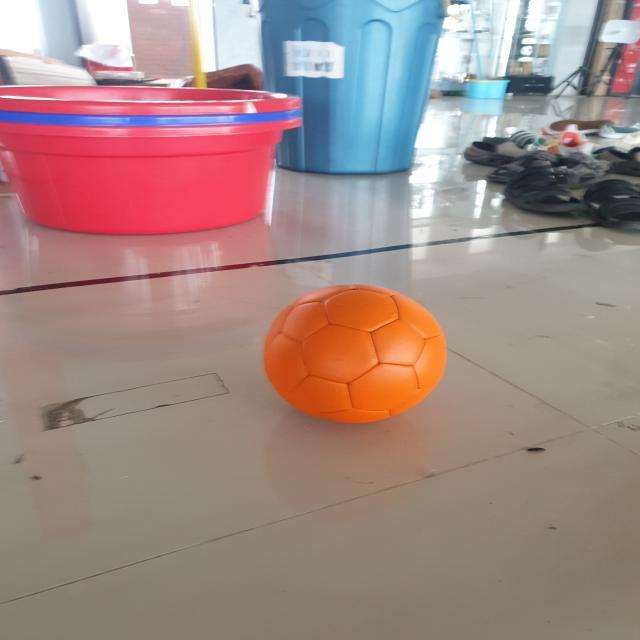bola: (259, 278, 448, 429)
